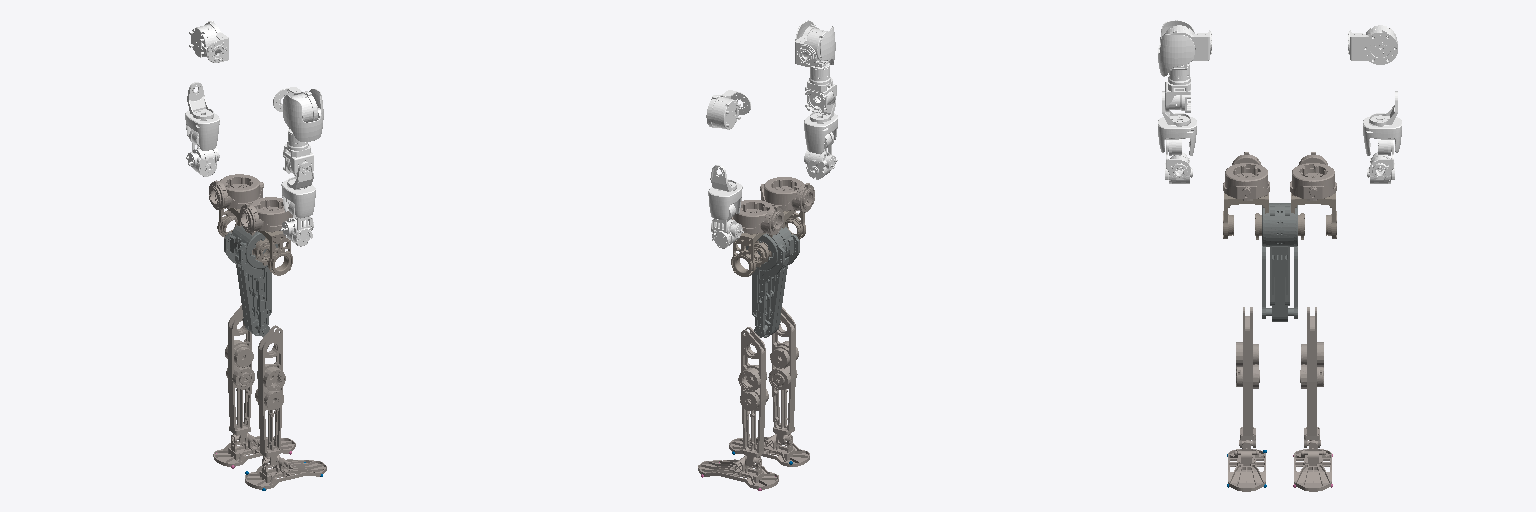
--- What the picture shows (computed from the rendered views, not written in the file) ---
3 views of the same robot in one strip: view 1: azimuth 30°, elevation 25°; view 2: azimuth 150°, elevation 25°; view 3: azimuth 270°, elevation 25° (orthographic).
Robot: biped_v3_full — 27 links, 26 joints (2 revolute, 24 continuous); root link torso; default pose: all joints at 0.
Visible links, largest first — view 1: r_knee, l_knee, r_leg_pitch, r_foot_roll, l_leg_roll, l_leg_pitch, r_leg_roll, r_arm_roll, l_arm_pitch, l_foot_roll, r_leg_yaw, l_hand_yaw (+4 smaller); view 2: l_knee, r_knee, l_leg_pitch, l_foot_roll, r_leg_roll, r_leg_pitch, l_leg_roll, l_arm_pitch, r_foot_roll, r_arm_yaw, l_leg_yaw, r_hand_yaw (+3 smaller); view 3: l_knee, r_knee, l_leg_pitch, r_leg_pitch, r_leg_roll, l_leg_roll, l_arm_pitch, r_foot_roll, l_foot_roll, r_arm_roll, r_arm_yaw, l_hand_yaw (+4 smaller).
Link boxes in pixels (x1=…): r_knee: x1=255, y1=325, x2=285, y2=466; l_knee: x1=225, y1=305, x2=254, y2=444; r_leg_pitch: x1=230, y1=225, x2=271, y2=336; r_foot_roll: x1=245, y1=455, x2=326, y2=490; l_leg_roll: x1=209, y1=174, x2=263, y2=209; l_leg_pitch: x1=224, y1=231, x2=277, y2=335; r_leg_roll: x1=240, y1=197, x2=292, y2=232; r_arm_roll: x1=283, y1=89, x2=323, y2=141; l_arm_pitch: x1=189, y1=21, x2=228, y2=62; l_foot_roll: x1=213, y1=433, x2=295, y2=468; r_leg_yaw: x1=250, y1=230, x2=292, y2=275; l_hand_yaw: x1=185, y1=111, x2=219, y2=150; l_knee: x1=738, y1=327, x2=768, y2=466; r_knee: x1=768, y1=307, x2=798, y2=444; l_leg_pitch: x1=752, y1=227, x2=793, y2=337; l_foot_roll: x1=698, y1=455, x2=778, y2=490; r_leg_roll: x1=760, y1=177, x2=814, y2=212; r_leg_pitch: x1=746, y1=233, x2=799, y2=337; l_leg_roll: x1=731, y1=200, x2=783, y2=234; l_arm_pitch: x1=706, y1=90, x2=750, y2=129; r_foot_roll: x1=729, y1=433, x2=809, y2=466; r_arm_yaw: x1=805, y1=63, x2=836, y2=113; l_leg_yaw: x1=731, y1=233, x2=772, y2=276; r_hand_yaw: x1=804, y1=113, x2=837, y2=153; l_knee: x1=1300, y1=307, x2=1323, y2=447; r_knee: x1=1236, y1=307, x2=1259, y2=447; l_leg_pitch: x1=1262, y1=203, x2=1297, y2=321; r_leg_pitch: x1=1262, y1=203, x2=1297, y2=321; r_leg_roll: x1=1223, y1=152, x2=1269, y2=200; l_leg_roll: x1=1290, y1=152, x2=1336, y2=200; l_arm_pitch: x1=1348, y1=25, x2=1397, y2=64; r_foot_roll: x1=1227, y1=440, x2=1266, y2=491; l_foot_roll: x1=1293, y1=440, x2=1332, y2=491; r_arm_roll: x1=1158, y1=20, x2=1194, y2=76; r_arm_yaw: x1=1165, y1=63, x2=1190, y2=112; l_hand_yaw: x1=1363, y1=117, x2=1401, y2=155.
Bounding box of the posed robot: 0.2551 × 0.6404 × 1.27 m (x, y, z).
Meshes: 27 distinct files referenced, 24 mesh visuals loaded (24 binary STL); not drawn: 3 (reference not matched to a file when rendering).

URDF robot description (biped_v3_full):
<?xml version="1.0" ?>
<!-- =================================================================================== -->
<!-- |    This document was autogenerated by xacro from [local-path]/workspace/kuavo-ros-control/src/humanoid-control/humanoid_interface_drake/models/biped_gen4.2/urdf/biped_v3_full.xacro | -->
<!-- |    EDITING THIS FILE BY HAND IS NOT RECOMMENDED                                 | -->
<!-- =================================================================================== -->
<robot name="biped_v3_full" xmlns:drake="https://drake.mit.edu">
  <link name="torso">
    <inertial>
      <origin rpy="0 0 0" xyz="0.00383143 0.0 0.18350901"/>
      <mass value="27.0986395"/>
      <inertia ixx="0.95851611" ixy="0.00026968" ixz="0.06381351" iyy="0.83635568" iyz="0.00069789" izz="0.29474019"/>
    </inertial>
    <visual>
      <origin rpy="0 0 0" xyz="0 0 0"/>
      <geometry>
        <mesh filename="../../meshes/base_link.STL"/>
      </geometry>
      <material name="">
        <color rgba="0.43137 0.45098 0.43137 1"/>
      </material>
    </visual>
    <!-- <collision>
      <origin xyz="0 0 0" rpy="0 0 0" />
      <geometry>
        <mesh filename="../../meshes/base_link.STL" />
      </geometry>
    </collision> -->
  </link>
  <link name="l_leg_roll">
    <inertial>
      <origin rpy="0 0 0" xyz="-0.00430148 -0.00002708 -0.00851195"/>
      <mass value="1.71093115"/>
      <inertia ixx="0.00206092" ixy="-0.00000197" ixz="-0.00006944" iyy="0.00277274" iyz="0.00000510" izz="0.00370826"/>
    </inertial>
    <visual>
      <origin rpy="0 0 0" xyz="0 0 0"/>
      <geometry>
        <mesh filename="../../meshes/l_leg_roll.STL"/>
      </geometry>
      <material name="">
        <color rgba="0.6902 0.65882 0.63922 1"/>
      </material>
    </visual>
  </link>
  <joint name="l_leg_roll_joint" type="continuous">
    <origin rpy="0 0 0" xyz="-0.0024999 0.087 -0.066"/>
    <parent link="torso"/>
    <child link="l_leg_roll"/>
    <axis xyz="1 0 0"/>
    <limit effort="100" lower="-0.78" upper="1.57" velocity="25"/>
  </joint>
  <!--        ssss -->
  <transmission type="SimpleTransmission">
    <joint name="l_leg_roll_joint"/>
    <actuator name="l_leg_roll_motor"/>
  </transmission>
  <!-- sssssssss -->
  <link name="l_leg_yaw">
    <inertial>
      <origin rpy="0 0 0" xyz="0.00000000 -0.00322560 -0.09080869"/>
      <mass value="0.55762936"/>
      <inertia ixx="0.00213816" ixy="0.00000000" ixz="-0.00000003" iyy="0.00118284" iyz="0.00004162" izz="0.00139547"/>
    </inertial>
    <visual>
      <origin rpy="0 0 0" xyz="0 0 0"/>
      <geometry>
        <mesh filename="../../meshes/l_leg_yaw.STL"/>
      </geometry>
      <material name="">
        <color rgba="0.65098 0.61961 0.58824 1"/>
      </material>
    </visual>
  </link>
  <joint name="l_leg_yaw_joint" type="continuous">
    <origin rpy="0 0 0" xyz="0 0 0"/>
    <parent link="l_leg_roll"/>
    <child link="l_leg_yaw"/>
    <axis xyz="0 0 1"/>
    <limit effort="100" lower="-1.57" upper="1.57" velocity="25"/>
  </joint>
  <!--        ssss -->
  <transmission type="SimpleTransmission">
    <joint name="l_leg_yaw_joint"/>
    <actuator name="l_leg_yaw_motor"/>
  </transmission>
  <!-- sssssssss -->
  <link name="l_leg_pitch">
    <inertial>
      <origin rpy="0 0 0" xyz="0.00185677 0.01023458 -0.08558380"/>
      <mass value="4.43577451"/>
      <inertia ixx="0.04271209" ixy="-0.00000777" ixz="-0.00143032" iyy="0.04341831" iyz="-0.00092942" izz="0.01102339"/>
    </inertial>
    <visual>
      <origin rpy="0 0 0" xyz="0 0 0"/>
      <geometry>
        <mesh filename="../../meshes/l_leg_pitch.STL"/>
      </geometry>
      <material name="">
        <color rgba="0.52941 0.54902 0.54902 1"/>
      </material>
    </visual>
  </link>
  <joint name="l_leg_pitch_joint" type="continuous">
    <origin rpy="0 0 0" xyz="0 0.0 -0.1287"/>
    <parent link="l_leg_yaw"/>
    <child link="l_leg_pitch"/>
    <axis xyz="0 1 0"/>
    <limit effort="100" lower="-2.35" upper="0.78" velocity="47"/>
  </joint>
  <!--        ssss -->
  <transmission type="SimpleTransmission">
    <joint name="l_leg_pitch_joint"/>
    <actuator name="l_leg_pitch_motor"/>
  </transmission>
  <!-- sssssssss -->
  <link name="l_knee">
    <inertial>
      <origin rpy="0 0 0" xyz="0.00716677 -0.00006696 -0.11481925"/>
      <mass value="1.61274530"/>
      <inertia ixx="0.01103699" ixy="0.00000084" ixz="-0.00000711" iyy="0.01095123" iyz="0.00000987" izz="0.00087225"/>
    </inertial>
    <visual>
      <origin rpy="0 0 0" xyz="0 0 0"/>
      <geometry>
        <mesh filename="../../meshes/l_knee.STL"/>
      </geometry>
      <material name="">
        <color rgba="0.68627 0.65882 0.63922 1"/>
      </material>
    </visual>
  </link>
  <joint name="l_knee_pitch_joint" type="revolute">
    <origin rpy="0 0 0" xyz="0.0 0.0 -0.284"/>
    <parent link="l_leg_pitch"/>
    <child link="l_knee"/>
    <axis xyz="0 1 0"/>
    <limit effort="100" lower="0.0" upper="2.618" velocity="47"/>
  </joint>
  <!--        ssss -->
  <transmission type="SimpleTransmission">
    <joint name="l_knee_pitch_joint"/>
    <actuator name="l_knee_pitch_motor"/>
  </transmission>
  <!-- sssssssss -->
  <link name="l_foot_pitch">
    <inertial>
      <origin rpy="0 0 0" xyz="0.00000000 0.00000000 0"/>
      <mass value="0.07193524"/>
      <inertia ixx="0.00000692" ixy="0.00000000" ixz="0.00000000" iyy="0.00000692" iyz="0.00000000" izz="0.00001218"/>
    </inertial>
    <visual>
      <origin rpy="0 0 0" xyz="0 0 0"/>
      <geometry>
        <mesh filename="../../meshes/l_foot_pitch.STL"/>
      </geometry>
      <material name="">
        <color rgba="0.6902 0.65882 0.63922 1"/>
      </material>
    </visual>
  </link>
  <joint name="l_foot_pitch_joint" type="continuous">
    <origin rpy="0 0 0" xyz="0 0.0 -0.346"/>
    <parent link="l_knee"/>
    <child link="l_foot_pitch"/>
    <axis xyz="0 1 0"/>
    <limit effort="100" lower="-1.57" upper="1.57" velocity="25"/>
  </joint>
  <transmission type="SimpleTransmission">
    <joint name="l_foot_pitch_joint"/>
    <actuator name="l_foot_pitch_motor"/>
  </transmission>
  <!-- sssssssss -->
  <link name="l_foot_roll">
    <inertial>
      <origin rpy="0 0 0" xyz="0.03730703 -0.00000226 -0.03934407"/>
      <mass value="0.49004366"/>
      <inertia ixx="0.00037622" ixy="-0.00000003" ixz="-0.00004693" iyy="0.00157919" iyz="0.00000000" izz="0.00171680"/>
    </inertial>
    <visual>
      <origin rpy="0 0 0" xyz="0 0 0"/>
      <geometry>
        <mesh filename="../../meshes/l_foot_roll.STL"/>
      </geometry>
      <material name="">
        <color rgba="0.6902 0.65882 0.63922 1"/>
      </material>
    </visual>
    <visual>
      <origin rpy="0 0 0" xyz="-0.04937 0.04773 -0.0593"/>
      <geometry>
        <sphere radius="0.005"/>
      </geometry>
    </visual>
    <collision>
      <origin rpy="0 0 0" xyz="-0.04937 0.04773 -0.0593"/>
      <geometry>
        <sphere radius="0.005"/>
      </geometry>
    </collision>
    <visual>
      <origin rpy="0 0 0" xyz="-0.04937 -0.04773 -0.0593"/>
      <geometry>
        <sphere radius="0.005"/>
      </geometry>
    </visual>
    <collision>
      <origin rpy="0 0 0" xyz="-0.04937 -0.04773 -0.0593"/>
      <geometry>
        <sphere radius="0.005"/>
      </geometry>
    </collision>
    <visual>
      <origin rpy="0 0 0" xyz="0.13564 0.04773 -0.0593"/>
      <geometry>
        <sphere radius="0.005"/>
      </geometry>
    </visual>
    <collision>
      <origin rpy="0 0 0" xyz="0.13564 0.04773 -0.0593"/>
      <geometry>
        <sphere radius="0.005"/>
      </geometry>
    </collision>
    <visual>
      <origin rpy="0 0 0" xyz="0.13564 -0.04773 -0.0593"/>
      <geometry>
        <sphere radius="0.005"/>
      </geometry>
    </visual>
    <collision>
      <origin rpy="0 0 0" xyz="0.13564 -0.04773 -0.0593"/>
      <geometry>
        <sphere radius="0.005"/>
      </geometry>
    </collision>
  </link>
  <joint name="l_foot_roll_joint" type="continuous">
    <origin rpy="0 0 0" xyz="0 0 0"/>
    <parent link="l_foot_pitch"/>
    <child link="l_foot_roll"/>
    <axis xyz="1 0 0"/>
    <limit effort="100" lower="-1.39" upper="0.78" velocity="25"/>
  </joint>
  <transmission type="SimpleTransmission">
    <joint name="l_foot_roll_joint"/>
    <actuator name="l_foot_roll_motor"/>
  </transmission>
  <!-- sssssssss -->
  <frame link="l_foot_roll" name="l_foot_sole" xyz="0.04793 0.0 -0.0593"/>
  <frame link="l_foot_roll" name="l_foot_toe" xyz="0.16902 0.0 -0.0593"/>
  <frame link="l_foot_roll" name="l_foot_heel" xyz="-0.07316 0.0 -0.0593"/>
  <link name="r_leg_roll">
    <inertial>
      <origin rpy="0 0 0" xyz="0.00430146 0.00002709 -0.00851195"/>
      <mass value="1.71093008"/>
      <inertia ixx="0.00206092" ixy="0.00000197" ixz="-0.00006944" iyy="0.00277274" iyz="-0.00000510" izz="0.00370826"/>
    </inertial>
    <visual>
      <origin rpy="0 0 0" xyz="0 0 0"/>
      <geometry>
        <mesh filename="../../meshes/r_leg_roll.STL"/>
      </geometry>
      <material name="">
        <color rgba="0.6902 0.65882 0.63922 1"/>
      </material>
    </visual>
  </link>
  <joint name="r_leg_roll_joint" type="continuous">
    <origin rpy="0 0 0" xyz="-0.0024999 -0.087 -0.066"/>
    <parent link="torso"/>
    <child link="r_leg_roll"/>
    <axis xyz="1 0 0"/>
    <limit effort="100" lower="-1.57" upper="0.78" velocity="25"/>
  </joint>
  <!--        ssss -->
  <transmission type="SimpleTransmission">
    <joint name="r_leg_roll_joint"/>
    <actuator name="r_leg_roll_motor"/>
  </transmission>
  <!-- sssssssss -->
  <link name="r_leg_yaw">
    <inertial>
      <origin rpy="0 0 0" xyz="0.00000000 0.00322561 -0.09080869"/>
      <mass value="0.55762928"/>
      <inertia ixx="0.00213816" ixy="0.00000000" ixz="-0.00000003" iyy="0.00118284" iyz="-0.00004162" izz="0.00139547"/>
    </inertial>
    <visual>
      <origin rpy="0 0 0" xyz="0 0 0"/>
      <geometry>
        <mesh filename="../../meshes/r_leg_yaw.STL"/>
      </geometry>
      <material name="">
        <color rgba="0.650980392156863 0.619607843137255 0.588235294117647 1"/>
      </material>
    </visual>
  </link>
  <joint name="r_leg_yaw_joint" type="continuous">
    <origin rpy="0 0 0" xyz="0.0 0.0 0.0"/>
    <parent link="r_leg_roll"/>
    <child link="r_leg_yaw"/>
    <axis xyz="0 0 1"/>
    <limit effort="100" lower="-1.57" upper="1.57" velocity="25"/>
  </joint>
  <!--        ssss -->
  <transmission type="SimpleTransmission">
    <joint name="r_leg_yaw_joint"/>
    <actuator name="r_leg_yaw_motor"/>
  </transmission>
  <!-- sssssssss -->
  <link name="r_leg_pitch">
    <inertial>
      <origin rpy="0 0 0" xyz="0.00185677 -0.01023458 -0.08558380"/>
      <mass value="4.43577451"/>
      <inertia ixx="0.04271209" ixy="-0.00000777" ixz="-0.00143032" iyy="0.04420935" iyz="-0.00092942" izz="0.01102339"/>
    </inertial>
    <visual>
      <origin rpy="0 0 0" xyz="0 0 0"/>
      <geometry>
        <mesh filename="../../meshes/r_leg_pitch.STL"/>
      </geometry>
      <material name="">
        <color rgba="0.529411764705882 0.549019607843137 0.549019607843137 1"/>
      </material>
    </visual>
  </link>
  <joint name="r_leg_pitch_joint" type="continuous">
    <origin rpy="0 0 0" xyz="0 0 -0.1287"/>
    <parent link="r_leg_yaw"/>
    <child link="r_leg_pitch"/>
    <axis xyz="0 1 0"/>
    <limit effort="100" lower="-2.35" upper="0.78" velocity="47"/>
  </joint>
  <!--        ssss -->
  <transmission type="SimpleTransmission">
    <joint name="r_leg_pitch_joint"/>
    <actuator name="r_leg_pitch_motor"/>
  </transmission>
  <!-- sssssssss -->
  <link name="r_knee">
    <inertial>
      <origin rpy="0 0 0" xyz="0.00716677 0.00006696 -0.11481925"/>
      <mass value="1.61274530"/>
      <inertia ixx="0.01103699" ixy="0.00000084" ixz="-0.00000711" iyy="0.01095123" iyz="0.00000987" izz="0.00087225"/>
    </inertial>
    <visual>
      <origin rpy="0 0 0" xyz="0 0 0"/>
      <geometry>
        <mesh filename="../../meshes/r_knee.STL"/>
      </geometry>
      <material name="">
        <color rgba="0.686274509803922 0.658823529411765 0.63921568627451 1"/>
      </material>
    </visual>
  </link>
  <joint name="r_knee_pitch_joint" type="revolute">
    <origin rpy="0 0 0" xyz="0 0 -0.284"/>
    <parent link="r_leg_pitch"/>
    <child link="r_knee"/>
    <axis xyz="0 1 0"/>
    <limit effort="100" lower="0.0" upper="2.618" velocity="47"/>
  </joint>
  <!--        ssss -->
  <transmission type="SimpleTransmission">
    <joint name="r_knee_pitch_joint"/>
    <actuator name="r_knee_pitch_motor"/>
  </transmission>
  <!-- sssssssss -->
  <link name="r_foot_pitch">
    <inertial>
      <origin rpy="0 0 0" xyz="0 0.00000000 0"/>
      <mass value="0.07193524"/>
      <inertia ixx="0.00000692" ixy="0" ixz="0" iyy="0.00000692" iyz="0" izz="0.00001218"/>
    </inertial>
    <visual>
      <origin rpy="0 0 0" xyz="0 0 0"/>
      <geometry>
        <mesh filename="../../meshes/r_foot_pitch.STL"/>
      </geometry>
      <material name="">
        <color rgba="0.690196078431373 0.658823529411765 0.63921568627451 1"/>
      </material>
    </visual>
  </link>
  <joint name="r_foot_pitch_joint" type="continuous">
    <origin rpy="0 0 0" xyz="0 0 -0.346"/>
    <parent link="r_knee"/>
    <child link="r_foot_pitch"/>
    <axis xyz="0 1 0"/>
    <limit effort="100" lower="-1.57" upper="1.57" velocity="25"/>
  </joint>
  <!--        ssss -->
  <transmission type="SimpleTransmission">
    <joint name="r_foot_pitch_joint"/>
    <actuator name="r_foot_pitch_motor"/>
  </transmission>
  <!-- sssssssss -->
  <link name="r_foot_roll">
    <inertial>
      <origin rpy="0 0 0" xyz="0.03730703 0.00000225 -0.03934407"/>
      <mass value="0.49004366"/>
      <inertia ixx="0.00037622" ixy="0.00000003" ixz="-0.00004693" iyy="0.00157919" iyz="0.00000000" izz="0.00171680"/>
    </inertial>
    <visual>
      <origin rpy="0 0 0" xyz="0 0 0"/>
      <geometry>
        <mesh filename="../../meshes/r_foot_roll.STL"/>
      </geometry>
      <material name="">
        <color rgba="0.690196078431373 0.658823529411765 0.63921568627451 1"/>
      </material>
    </visual>
    <visual>
      <origin rpy="0 0 0" xyz="-0.04937 0.04773 -0.0465"/>
      <geometry>
        <sphere radius="0.005"/>
      </geometry>
    </visual>
    <collision>
      <origin rpy="0 0 0" xyz="-0.04937 0.04773 -0.0593"/>
      <geometry>
        <sphere radius="0.005"/>
      </geometry>
    </collision>
    <visual>
      <origin rpy="0 0 0" xyz="-0.04937 -0.04773 -0.0593"/>
      <geometry>
        <sphere radius="0.005"/>
      </geometry>
    </visual>
    <collision>
      <origin rpy="0 0 0" xyz="-0.04937 -0.04773 -0.0593"/>
      <geometry>
        <sphere radius="0.005"/>
      </geometry>
    </collision>
    <visual>
      <origin rpy="0 0 0" xyz="0.13564 0.04773 -0.0593"/>
      <geometry>
        <sphere radius="0.005"/>
      </geometry>
    </visual>
    <collision>
      <origin rpy="0 0 0" xyz="0.13564 0.04773 -0.0593"/>
      <geometry>
        <sphere radius="0.005"/>
      </geometry>
    </collision>
    <visual>
      <origin rpy="0 0 0" xyz="0.13564 -0.04773 -0.0593"/>
      <geometry>
        <sphere radius="0.005"/>
      </geometry>
    </visual>
    <collision>
      <origin rpy="0 0 0" xyz="0.13564 -0.04773 -0.0593"/>
      <geometry>
        <sphere radius="0.005"/>
      </geometry>
    </collision>
  </link>
  <joint name="r_foot_roll_joint" type="continuous">
    <origin rpy="0 0 0" xyz="0 0 0"/>
    <parent link="r_foot_pitch"/>
    <child link="r_foot_roll"/>
    <axis xyz="1 0 0"/>
    <limit effort="100" lower="-1.39" upper="0.78" velocity="25"/>
  </joint>
  <!--        ssss -->
  <transmission type="SimpleTransmission">
    <joint name="r_foot_roll_joint"/>
    <actuator name="r_foot_roll_motor"/>
  </transmission>
  <!-- sssssssss -->
  <frame link="r_foot_roll" name="r_foot_sole" xyz="0.04793 0.0 -0.0593"/>
  <frame link="r_foot_roll" name="r_foot_toe" xyz="0.16902 0.0 -0.0593"/>
  <frame link="r_foot_roll" name="r_foot_heel" xyz="-0.07316 -0.0 -0.0593"/>
  <!-- =========================================================== Arms ================================================================= -->
  <link name="l_arm_pitch">
    <inertial>
      <origin rpy="0 0 0" xyz="0.0146835191418715 -0.0166604103758634 -6.82857133371129E-05"/>
      <mass value="0.794"/>
      <inertia ixx="0.0002674432873971" ixy="-2.5654089149164E-05" ixz="-1.72966133127553E-07" iyy="0.000125796784291983" iyz="-1.66717296343013E-06" izz="0.000196186976742156"/>
    </inertial>
    <visual>
      <origin rpy="0 0 0" xyz="0 0 0"/>
      <geometry>
        <mesh filename="../../meshes/l_arm_pitch.STL"/>
      </geometry>
      <material name="">
        <color rgba="1 1 1 1"/>
      </material>
    </visual>
  </link>
  <joint name="l_arm_pitch" type="continuous">
    <origin rpy="0 0 0" xyz="-0.0175475823124921 0.262700000000031 0.324500000000024"/>
    <parent link="torso"/>
    <child link="l_arm_pitch"/>
    <axis xyz="0 1 0"/>
    <limit effort="100" lower="-1.57" upper="1.57" velocity="35"/>
  </joint>
  <transmission type="SimpleTransmission">
    <joint name="l_arm_pitch"/>
    <actuator name="l_arm_pitch_motor"/>
  </transmission>
  <link name="l_arm_roll">
    <inertial>
      <origin rpy="0 0 0" xyz="0.0222872651779299 0.0156945544195473 -0.0202262244341484"/>
      <mass value="0.20735"/>
      <inertia ixx="0.000160370067223081" ixy="6.30811840859269E-06" ixz="-1.13259246453495E-05" iyy="0.000262365778589962" iyz="3.14941259087024E-05" izz="0.00023601403628197"/>
    </inertial>
    <visual>
      <origin rpy="0 0 0" xyz="0 0 0"/>
      <geometry>
        <mesh filename="../../meshes/l_arm_roll.STL"/>
      </geometry>
      <material name="">
        <color rgba="1 1 1 1"/>
      </material>
    </visual>
  </link>
  <joint name="l_arm_roll" type="continuous">
    <origin rpy="0 0 0" xyz="0 0 0"/>
    <parent link="l_arm_pitch"/>
    <child link="l_arm_roll"/>
    <axis xyz="1 0 0"/>
    <limit effort="100" lower="-1.57" upper="1.57" velocity="35"/>
  </joint>
  <transmission type="SimpleTransmission">
    <joint name="l_arm_roll"/>
    <actuator name="l_arm_roll_motor"/>
  </transmission>
  <link name="l_arm_yaw">
    <inertial>
      <origin rpy="0 0 0" xyz="6.16940440451783E-05 0.00525815062784063 -0.128821944854616"/>
      <mass value="1.120632"/>
      <inertia ixx="7.00575957554699E-05" ixy="-6.81658291272877E-10" ixz="2.69427050743199E-10" iyy="8.53612265336777E-05" iyz="6.95899873075699E-06" izz="8.82223899453285E-05"/>
    </inertial>
    <visual>
      <origin rpy="0 0 0" xyz="0 0 0"/>
      <geometry>
        <mesh filename="../../meshes/l_arm_yaw.STL"/>
      </geometry>
      <material name="">
        <color rgba="1 1 1 1"/>
      </material>
    </visual>
  </link>
  <joint name="l_arm_yaw" type="continuous">
    <origin rpy="0 0 0" xyz="0 0 0"/>
    <parent link="l_arm_roll"/>
    <child link="l_arm_yaw"/>
    <axis xyz="0 0 1"/>
    <limit effort="100" lower="-1.57" upper="1.57" velocity="35"/>
  </joint>
  <transmission type="SimpleTransmission">
    <joint name="l_arm_yaw"/>
    <actuator name="l_arm_yaw_motor"/>
  </transmission>
  <link name="l_forearm_pitch">
    <inertial>
      <origin rpy="0 0 0" xyz="-1.4281929799409E-05 0.00938313949959718 -0.0522687552263489"/>
      <mass value="0.395825"/>
      <inertia ixx="9.558084476069E-05" ixy="-4.53863490387433E-08" ixz="5.39342118513253E-08" iyy="0.000126326373178391" iyz="-9.58160032696958E-06" izz="0.000121032474884238"/>
    </inertial>
    <visual>
      <origin rpy="0 0 0" xyz="0 0 0"/>
      <geometry>
        <mesh filename="../../meshes/l_forearm_pitch.STL"/>
      </geometry>
      <material name="">
        <color rgba="1 1 1 1"/>
      </material>
    </visual>
  </link>
  <joint name="l_forearm_pitch" type="continuous">
    <origin rpy="0 0 0" xyz="0 0 -0.163599999999998"/>
    <parent link="l_arm_yaw"/>
    <child link="l_forearm_pitch"/>
    <axis xyz="0 1 0"/>
    <limit effort="100" lower="-1.57" upper="1.57" velocity="35"/>
  </joint>
  <transmission type="SimpleTransmission">
    <joint name="l_forearm_pitch"/>
    <actuator name="l_forearm_pitch_motor"/>
  </transmission>
  <link name="l_hand_yaw">
    <inertial>
      <origin rpy="0 0 0" xyz="0.000113133463122583 0.00969227839919062 0.0817960696431681"/>
      <mass value="0.380792"/>
      <inertia ixx="7.64923984145487E-05" ixy="8.51098127601464E-09" ixz="-1.4070355859132E-08" iyy="0.000122231132554914" iyz="1.11226968994633E-06" izz="8.44935061342021E-05"/>
    </inertial>
    <visual>
      <origin rpy="0 0 0" xyz="0 0 0"/>
      <geometry>
        <mesh filename="../../meshes/l_hand_yaw.STL"/>
      </geometry>
      <material name="">
        <color rgba="1 1 1 1"/>
      </material>
    </visual>
  </link>
  <joint name="l_hand_yaw" type="continuous">
    <origin rpy="0 0 0" xyz="0 0 -0.191049997298861"/>
    <parent link="l_forearm_pitch"/>
    <child link="l_hand_yaw"/>
    <axis xyz="0 0 1"/>
    <limit effort="100" lower="-1.57" upper="1.57" velocity="35"/>
  </joint>
  <transmission type="SimpleTransmission">
    <joint name="l_hand_yaw"/>
    <actuator name="l_hand_yaw_motor"/>
  </transmission>
  <link name="l_hand_pitch">
    <inertial>
      <origin rpy="0 0 0" xyz="0.00810609786663821 0.00489663150092601 0.00622488608908427"/>
      <mass value="0.376651"/>
      <inertia ixx="4.77321490368476E-05" ixy="3.05261917457107E-06" ixz="4.77827164947654E-06" iyy="3.43814769749139E-05" iyz="-4.59311499587155E-06" izz="2.49955336560135E-05"/>
    </inertial>
    <visual>
      <origin rpy="0 0 0" xyz="0 0 0"/>
      <geometry>
        <mesh filename="../../meshes/l_hand_pitch.STL"/>
      </geometry>
      <material name="">
        <color rgba="1 1 1 1"/>
      </material>
    </visual>
  </link>
  <joint name="l_hand_pitch" type="continuous">
    <origin rpy="0 0 0" xyz="0 0 0"/>
    <parent link="l_hand_yaw"/>
    <child link="l_hand_pitch"/>
    <axis xyz="0 1 0"/>
    <limit effort="100" lower="-1.57" upper="1.57" velocity="35"/>
  </joint>
  <transmission type="SimpleTransmission">
    <joint name="l_hand_pitch"/>
    <actuator name="l_hand_pitch_motor"/>
  </transmission>
  <link name="l_hand_roll">
    <inertial>
      <origin rpy="0 0 0" xyz="0.0055750097939089 0.00647363667890594 -0.0826245715087526"/>
      <mass value="0.704669"/>
      <inertia ixx="8.04371746531483E-05" ixy="2.770174858381E-07" ixz="-4.63354764745673E-06" iyy="0.000116536814280971" iyz="1.04534418501281E-05" izz="0.000111690600253046"/>
    </inertial>
    <visual>
      <origin rpy="0 0 0" xyz="0 0 0"/>
      <geometry>
        <mesh filename="../../meshes/l_hand_roll.STL"/>
      </geometry>
      <material name="">
        <color rgba="1 1 1 1"/>
      </material>
    </visual>
  </link>
  <joint name="l_hand_roll" type="continuous">
    <origin rpy="0 0 0" xyz="0 0 0"/>
    <parent link="l_hand_pitch"/>
    <child link="l_hand_roll"/>
    <axis xyz="1 0 0"/>
    <limit effort="100" lower="-1.57" upper="1.57" velocity="35"/>
  </joint>
  <transmission type="SimpleTransmission">
    <joint name="l_hand_roll"/>
    <actuator name="l_hand_roll_motor"/>
  </transmission>
  <!-- right arm -->
  <link name="r_arm_pitch">
    <inertial>
      <origin rpy="0 0 0" xyz="0.0146743511434554 0.0168298008224051 -8.16711977456031E-05"/>
      <mass value="0.794"/>
      <inertia ixx="0.000267364314112701" ixy="2.58822573731612E-05" ixz="-1.74450019197634E-07" iyy="0.000125724274127356" iyz="1.71810516637517E-06" izz="0.000196179895851995"/>
    </inertial>
    <visual>
      <origin rpy="0 0 0" xyz="0 0 0"/>
      <geometry>
        <mesh filename="../../meshes/r_arm_pitch.STL"/>
      </geometry>
      <material name="">
        <color rgba="1 1 1 1"/>
      </material>
    </visual>
  </link>
  <joint name="r_arm_pitch" type="continuous">
    <origin rpy="0 0 0" xyz="-0.0175475823119764 -0.262700000000031 0.324500000000024"/>
    <parent link="torso"/>
    <child link="r_arm_pitch"/>
    <axis xyz="0 1 0"/>
    <limit effort="100" lower="-1.57" upper="1.57" velocity="35"/>
  </joint>
  <transmission type="SimpleTransmission">
    <joint name="r_arm_pitch"/>
    <actuator name="r_arm_pitch_motor"/>
  </transmission>
  <link name="r_arm_roll">
    <inertial>
      <origin rpy="0 0 0" xyz="0.0223009070030529 -0.0156950170482436 -0.0202307747650334"/>
      <mass value="0.20735"/>
      <inertia ixx="0.00016058853411588" ixy="-6.25733649402466E-06" ixz="-1.13236198708706E-05" iyy="0.000262566981542989" iyz="-3.14930415013909E-05" izz="0.000236151535262186"/>
    </inertial>
    <visual>
      <origin rpy="0 0 0" xyz="0 0 0"/>
      <geometry>
        <mesh filename="../../meshes/r_arm_roll.STL"/>
      </geometry>
      <material name="">
        <color rgba="1 1 1 1"/>
      </material>
    </visual>
  </link>
  <joint name="r_arm_roll" type="continuous">
    <origin rpy="0 0 0" xyz="0 0 0"/>
    <parent link="r_arm_pitch"/>
    <child link="r_arm_roll"/>
    <axis xyz="1 0 0"/>
    <limit effort="100" lower="-1.57" upper="1.57" velocity="35"/>
  </joint>
  <transmission type="SimpleTransmission">
    <joint name="r_arm_roll"/>
    <actuator name="r_arm_roll_motor"/>
  </transmission>
  <link name="r_arm_yaw">
    <inertial>
      <origin rpy="0 0 0" xyz="-4.82749435400213E-05 -0.0052581506278393 -0.128821944854617"/>
      <mass value="1.120632"/>
      <inertia ixx="7.00575957554697E-05" ixy="-6.81658260938682E-10" ixz="-2.69427064597612E-10" iyy="8.53612265336775E-05" iyz="-6.95899873075696E-06" izz="8.82223899453284E-05"/>
    </inertial>
    <visual>
      <origin rpy="0 0 0" xyz="0 0 0"/>
      <geometry>
        <mesh filename="../../meshes/r_arm_yaw.STL"/>
      </geometry>
      <material name="">
        <color rgba="1 1 1 1"/>
      </material>
    </visual>
  </link>
  <joint name="r_arm_yaw" type="continuous">
    <origin rpy="0 0 0" xyz="0 0 0"/>
    <parent link="r_arm_roll"/>
    <child link="r_arm_yaw"/>
    <axis xyz="0 0 1"/>
    <limit effort="100" lower="-1.57" upper="1.57" velocity="35"/>
  </joint>
  <transmission type="SimpleTransmission">
    <joint name="r_arm_yaw"/>
    <actuator name="r_arm_yaw_motor"/>
  </transmission>
  <link name="r_forearm_pitch">
    <inertial>
      <origin rpy="0 0 0" xyz="-0.000127232990745116 -0.00951602649232586 -0.0522687552263488"/>
      <mass value="0.395825"/>
      <inertia ixx="9.55808447606916E-05" ixy="-4.53863489774233E-08" ixz="-5.41060583443891E-08" iyy="0.000126326373178394" iyz="9.40982665987077E-06" izz="0.00012103247488424"/>
    </inertial>
    <visual>
      <origin rpy="0 0 0" xyz="0 0 0"/>
      <geometry>
        <mesh filename="../../meshes/r_forearm_pitch.STL"/>
      </geometry>
      <material name="">
        <color rgba="1 1 1 1"/>
      </material>
    </visual>
  </link>
  <joint name="r_forearm_pitch" type="continuous">
    <origin rpy="0 0 0" xyz="0 0 -0.1636"/>
    <parent link="r_arm_yaw"/>
    <child link="r_forearm_pitch"/>
    <axis xyz="0 1 0"/>
    <limit effort="100" lower="-1.57" upper="1.57" velocity="35"/>
  </joint>
  <transmission type="SimpleTransmission">
    <joint name="r_forearm_pitch"/>
    <actuator name="r_forearm_pitch_motor"/>
  </transmission>
  <link name="r_hand_yaw">
    <inertial>
      <origin rpy="0 0 0" xyz="-0.000113133331993445 -0.0097448351680483 0.0817960724173413"/>
      <mass value="0.380792"/>
      <inertia ixx="7.64923982725728E-05" ixy="8.51115986496426E-09" ixz="1.40703608309957E-08" iyy="0.000122231132626729" iyz="-1.11226978982942E-06" izz="8.44935061081861E-05"/>
    </inertial>
    <visual>
      <origin rpy="0 0 0" xyz="0 0 0"/>
      <geometry>
        <mesh filename="../../meshes/r_hand_yaw.STL"/>
      </geometry>
      <material name="">
        <color rgba="1 1 1 1"/>
      </material>
    </visual>
  </link>
  <joint name="r_hand_yaw" type="continuous">
    <origin rpy="0 0 0" xyz="0 0 -0.191050000125729"/>
    <parent link="r_forearm_pitch"/>
    <child link="r_hand_yaw"/>
    <axis xyz="0 0 1"/>
    <limit effort="100" lower="-1.57" upper="1.57" velocity="35"/>
  </joint>
  <transmission type="SimpleTransmission">
    <joint name="r_hand_yaw"/>
    <actuator name="r_hand_yaw_motor"/>
  </transmission>
  <link name="r_hand_pitch">
    <inertial>
      <origin rpy="0 0 0" xyz="0.00735986990228184 -0.0047523802551166 0.00605888061339196"/>
      <mass value="0.376651"/>
      <inertia ixx="4.77321358097824E-05" ixy="-2.99709432812988E-06" ixz="4.71488437974188E-06" iyy="3.42470226388499E-05" iyz="4.61094199971347E-06" izz="2.51299600072388E-05"/>
    </inertial>
    <visual>
      <origin rpy="0 0 0" xyz="0 0 0"/>
      <geometry>
        <mesh filename="../../meshes/r_hand_pitch.STL"/>
      </geometry>
      <material name="">
        <color rgba="1 1 1 1"/>
      </material>
    </visual>
  </link>
  <joint name="r_hand_pitch" type="continuous">
    <origin rpy="0 0 0" xyz="0 0 0"/>
    <parent link="r_hand_yaw"/>
    <child link="r_hand_pitch"/>
    <axis xyz="0 1 0"/>
    <limit effort="100" lower="-1.57" upper="1.57" velocity="35"/>
  </joint>
  <transmission type="SimpleTransmission">
    <joint name="r_hand_pitch"/>
    <actuator name="r_hand_pitch_motor"/>
  </transmission>
  <link name="r_hand_roll">
    <inertial>
      <origin rpy="0 0 0" xyz="0.0045944493552252 -0.00586927010446042 -0.0836324643988434"/>
      <mass value="0.704669"/>
      <inertia ixx="0.000160651543151659" ixy="-5.37963063503334E-07" ixz="-9.47669219939636E-06" iyy="0.000229393712149694" iyz="-2.08351527945055E-05" izz="0.000219277776699058"/>
    </inertial>
    <visual>
      <origin rpy="0 0 0" xyz="0 0 0"/>
      <geometry>
        <mesh filename="../../meshes/r_hand_roll.STL"/>
      </geometry>
      <material name="">
        <color rgba="1 1 1 1"/>
      </material>
    </visual>
  </link>
  <joint name="r_hand_roll" type="continuous">
    <origin rpy="0 0 0" xyz="0 0 0"/>
    <parent link="r_hand_pitch"/>
    <child link="r_hand_roll"/>
    <axis xyz="1 0 0"/>
    <limit effort="100" lower="-1.57" upper="1.57" velocity="35"/>
  </joint>
  <transmission type="SimpleTransmission">
    <joint name="r_hand_roll"/>
    <actuator name="r_hand_roll_motor"/>
  </transmission>
  <!-- end frame -->
  <!-- <frame link="l_hand_pitch" name="l_hand_sole" xyz="0 0 -0.1" /> -->
  <!-- end frame -->
  <!-- <frame link="r_hand_pitch" name="r_hand_sole" xyz="0 0 -0.1" /> -->
</robot>
